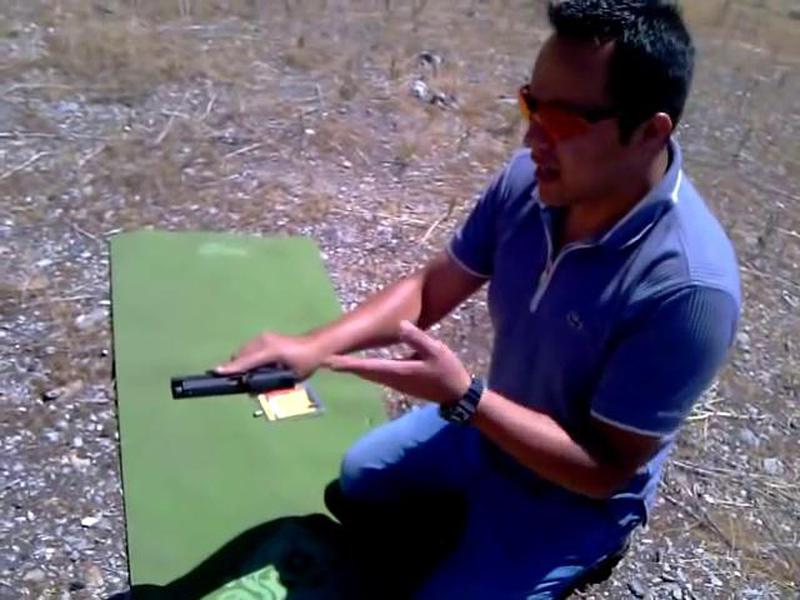Pistola: (149, 323, 329, 425)
